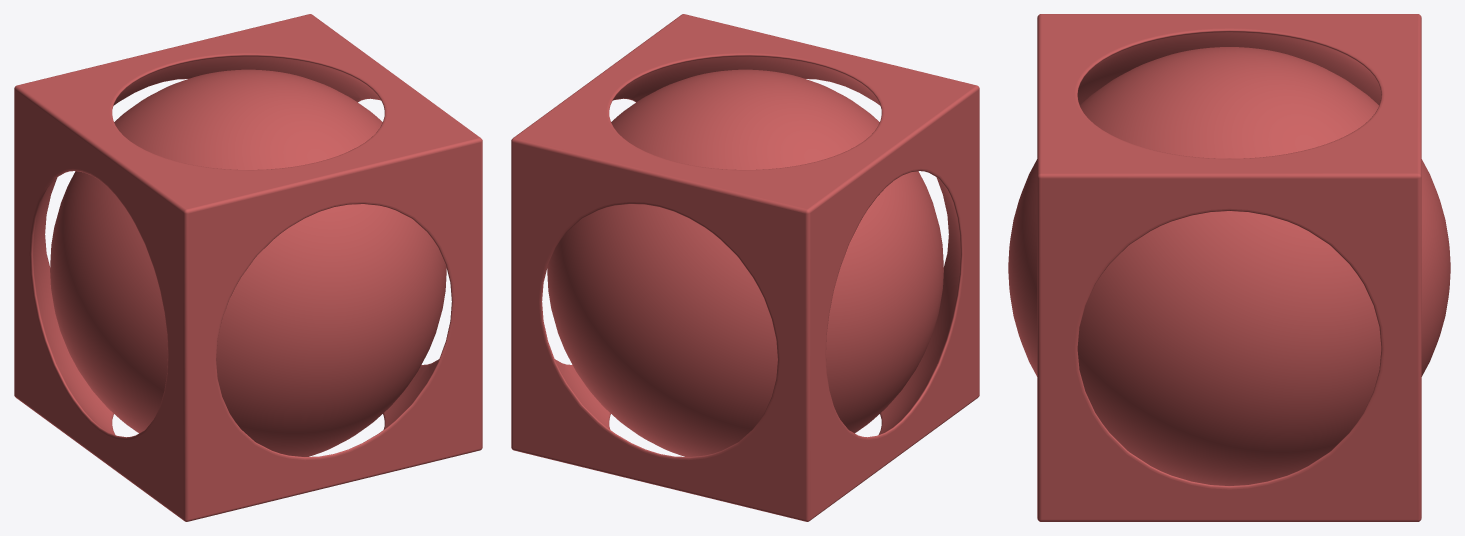
3 renders of one model, left to right at view 1: azimuth 30°, elevation 25°; view 2: azimuth 150°, elevation 25°; view 3: azimuth 270°, elevation 25°, orthographic. The views are drawn at different scales.
Visible parts, largest first — view 1: group_2 (×2), group_1; view 2: group_2 (×2), group_1; view 3: group_2 (×2), group_1.
Part boxes in pixels (x1,y1,x2,y2): group_2 (×2): (14, 14, 482, 521); group_1: (50, 69, 446, 456); group_2 (×2): (511, 14, 979, 521); group_1: (547, 69, 943, 456); group_2 (×2): (1037, 14, 1421, 521); group_1: (1008, 47, 1450, 485).
Size of the model in its own units: 45.36 by 45.36 by 45.36.
